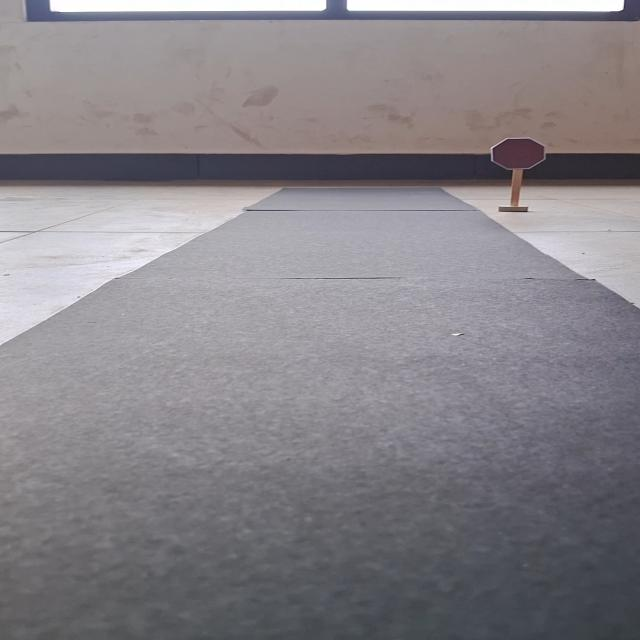Stop: (490, 138, 547, 170)
